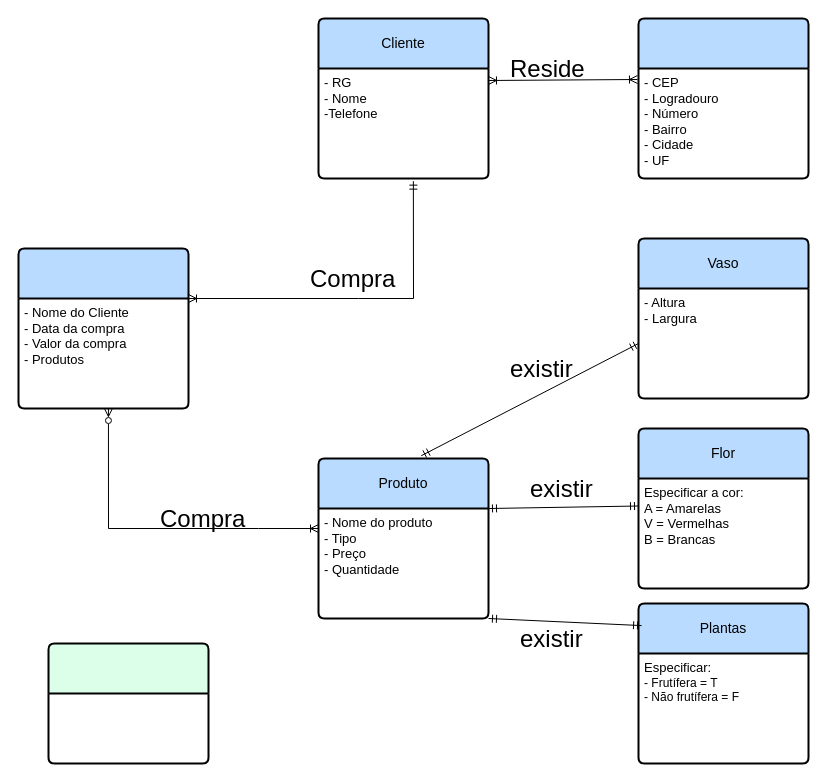
This 826x781 diagram has some shape labels left out. Each missing label, with the box of its shape:
Endereço: (637, 17, 809, 179)
Floricultura: (47, 642, 209, 764)
Nota Fiscal: (17, 247, 189, 409)
